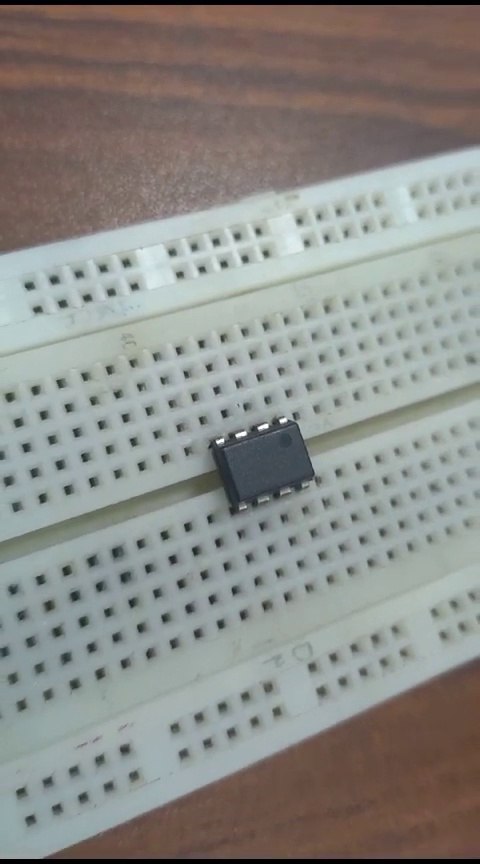IC: (200, 411, 324, 513)
